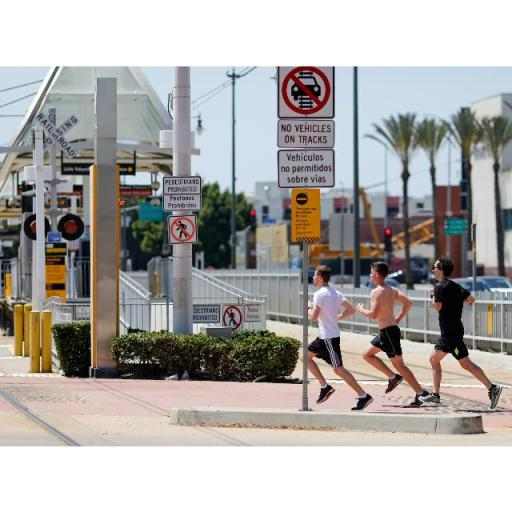Running: (421, 256, 507, 413), (291, 259, 376, 411), (351, 258, 433, 406)
